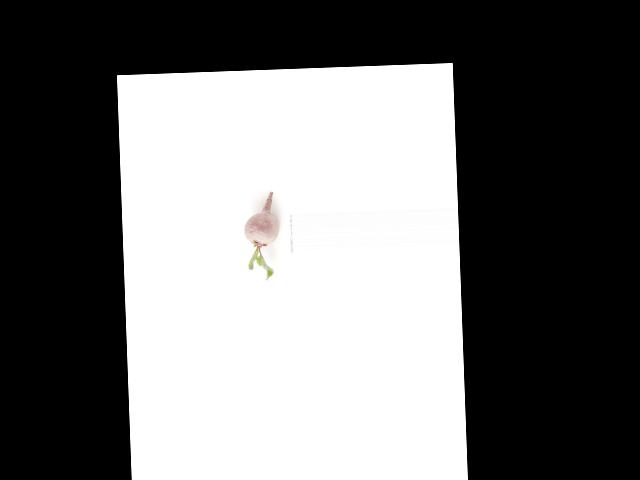beet: (243, 192, 280, 281)
